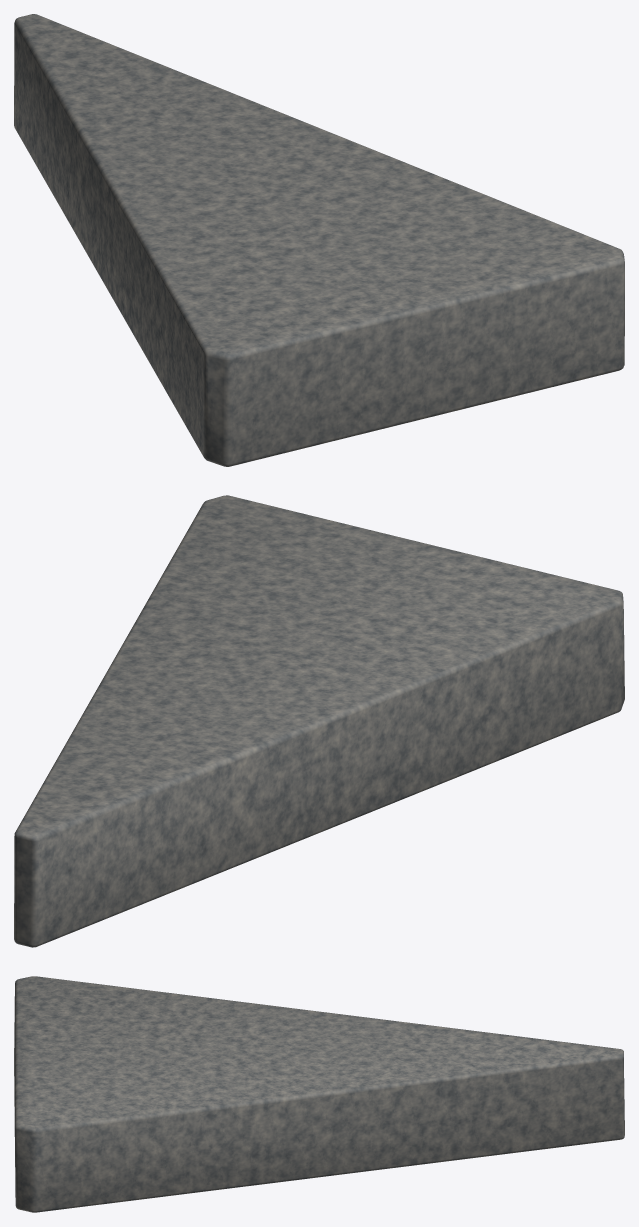
Rendered from sinking_basalt_triangle_pbr.gltf.
3 views of the same model, one above another, from view 1: azimuth 30°, elevation 25°; view 2: azimuth 150°, elevation 25°; view 3: azimuth 270°, elevation 25° (orthographic). The views are drawn at different scales.
Visible parts, largest first — view 1: sinking_basalt_triangle; view 2: sinking_basalt_triangle; view 3: sinking_basalt_triangle.
Boxes of the visible parts, left/top/right/bottom form: sinking_basalt_triangle: left=14, top=14, right=624, bottom=466; sinking_basalt_triangle: left=14, top=495, right=624, bottom=947; sinking_basalt_triangle: left=14, top=976, right=624, bottom=1212.
Size of the model in its own units: 11.77 by 3 by 19.64.
Materials: 1 (1 with a texture image).
